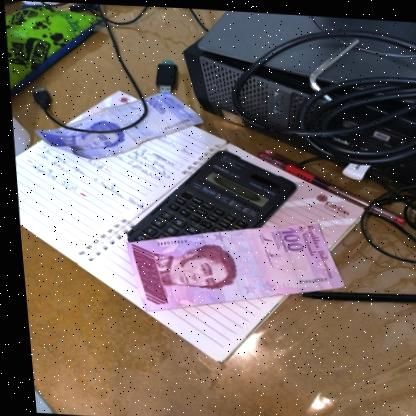one_hundred-front-vef: (117, 208, 343, 321)
